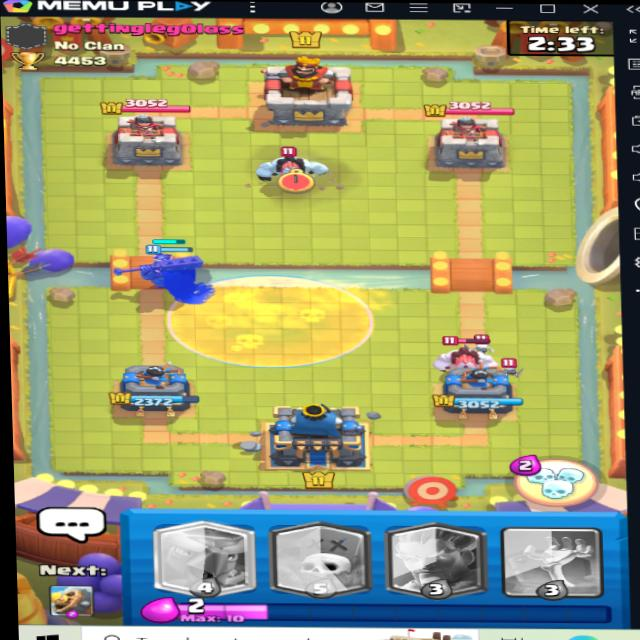ice-golem: (253, 140, 338, 198), (435, 338, 504, 373)
skeleton: (463, 332, 497, 350), (499, 355, 522, 374)
